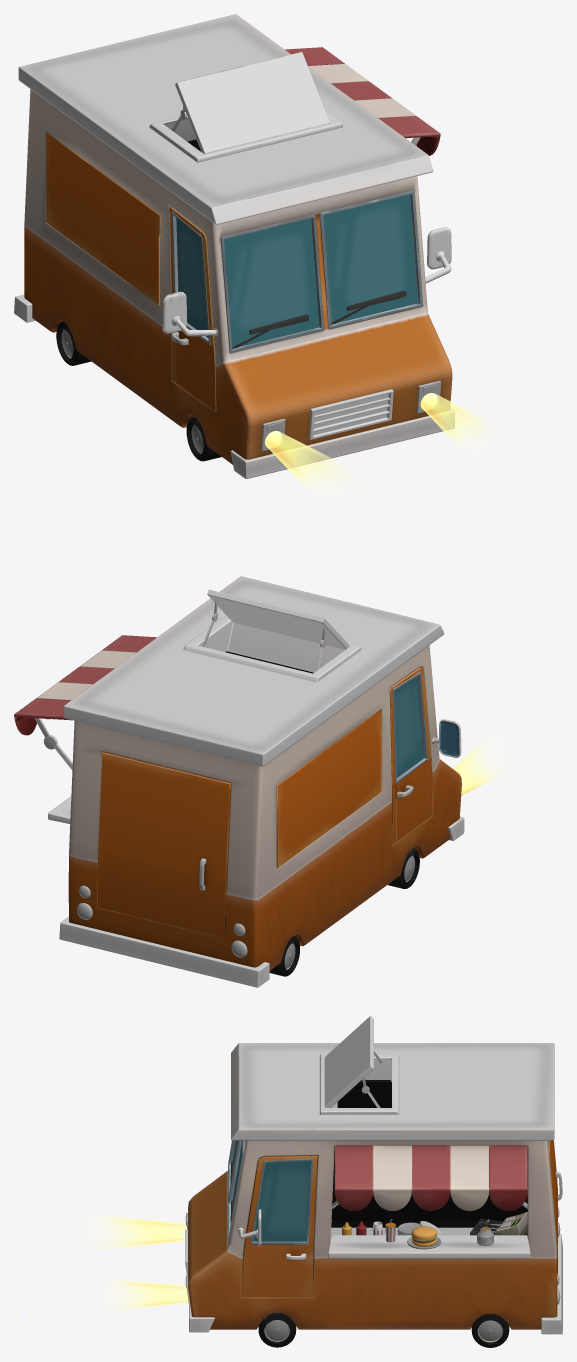
File: stylized_food_truck.glb
The picture shows the model from 3 angles, top to bottom: view 1: azimuth 30°, elevation 25°; view 2: azimuth 150°, elevation 25°; view 3: azimuth 270°, elevation 25°; orthographic projection. The views are drawn at different scales.
Visible parts, largest first — view 1: Scene_FInal_lambert1_0; view 2: Scene_FInal_lambert1_0; view 3: Scene_FInal_lambert1_0.
Part boxes in pixels (left/top/right/bottom): Scene_FInal_lambert1_0: left=14, top=14, right=562, bottom=547; Scene_FInal_lambert1_0: left=14, top=576, right=561, bottom=987; Scene_FInal_lambert1_0: left=14, top=1016, right=562, bottom=1347.
Size of the model in its own units: 0.1237 by 0.1199 by 0.2226.
Materials: 1 (1 with a texture image).
